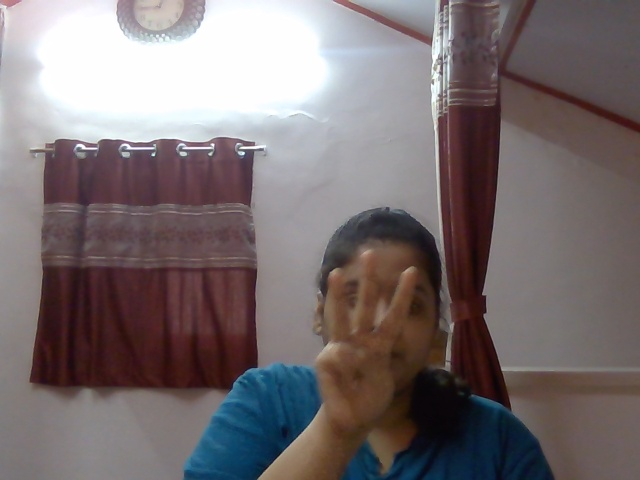w: (288, 247, 446, 441)
